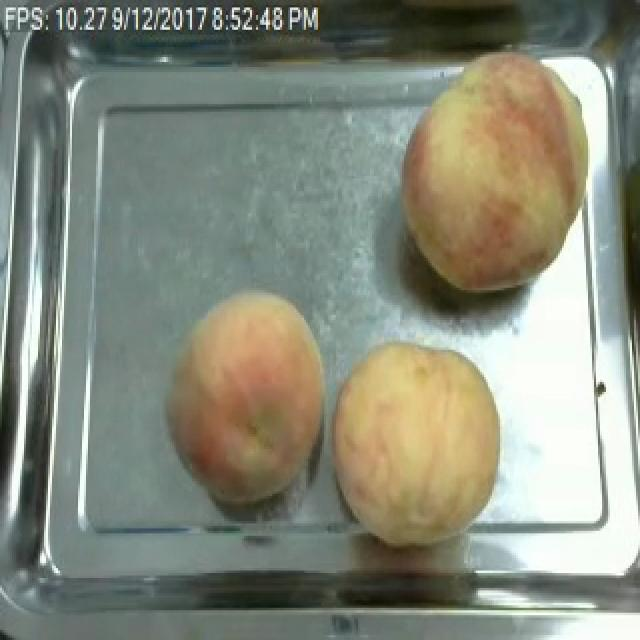Fruit: (390, 40, 608, 300), (320, 332, 512, 554), (160, 283, 340, 508)
